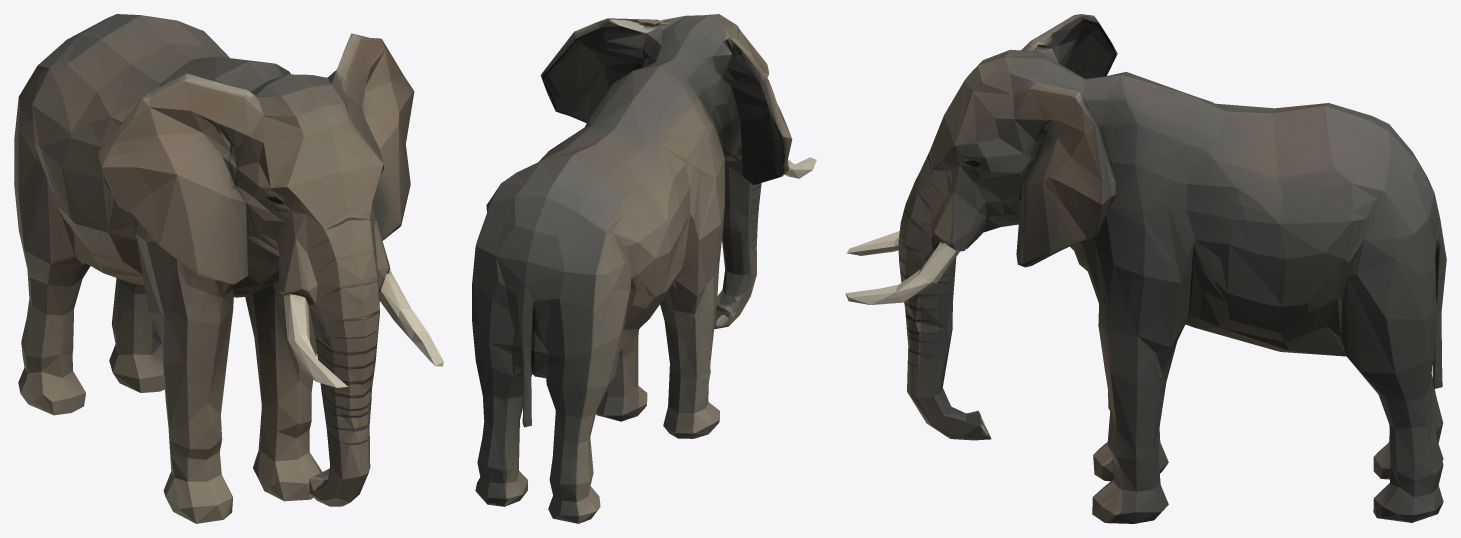
The model's file is Olifant.glb.
The picture shows the model from 3 angles, left to right: view 1: azimuth 30°, elevation 25°; view 2: azimuth 150°, elevation 25°; view 3: azimuth 270°, elevation 25°; orthographic projection. The views are drawn at different scales.
Visible parts, largest first — view 1: tripo_node_45c96da5-2efe-4046-9538-b150bb015742; view 2: tripo_node_45c96da5-2efe-4046-9538-b150bb015742; view 3: tripo_node_45c96da5-2efe-4046-9538-b150bb015742.
Part boxes in pixels (<box>): tripo_node_45c96da5-2efe-4046-9538-b150bb015742: <box>14,14,443,523</box>; tripo_node_45c96da5-2efe-4046-9538-b150bb015742: <box>472,14,816,523</box>; tripo_node_45c96da5-2efe-4046-9538-b150bb015742: <box>845,14,1446,523</box>.
Size of the model in its own units: 0.5732 by 0.8109 by 1.
Materials: 1 (1 with a texture image).
